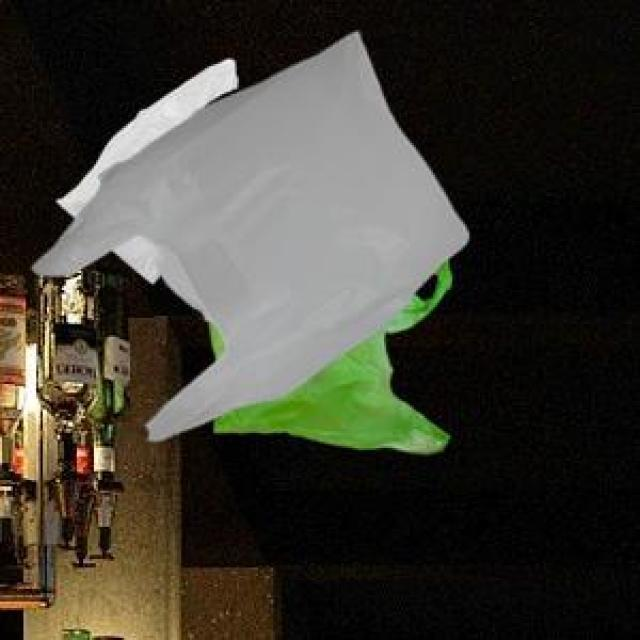waste: (34, 34, 469, 454)
